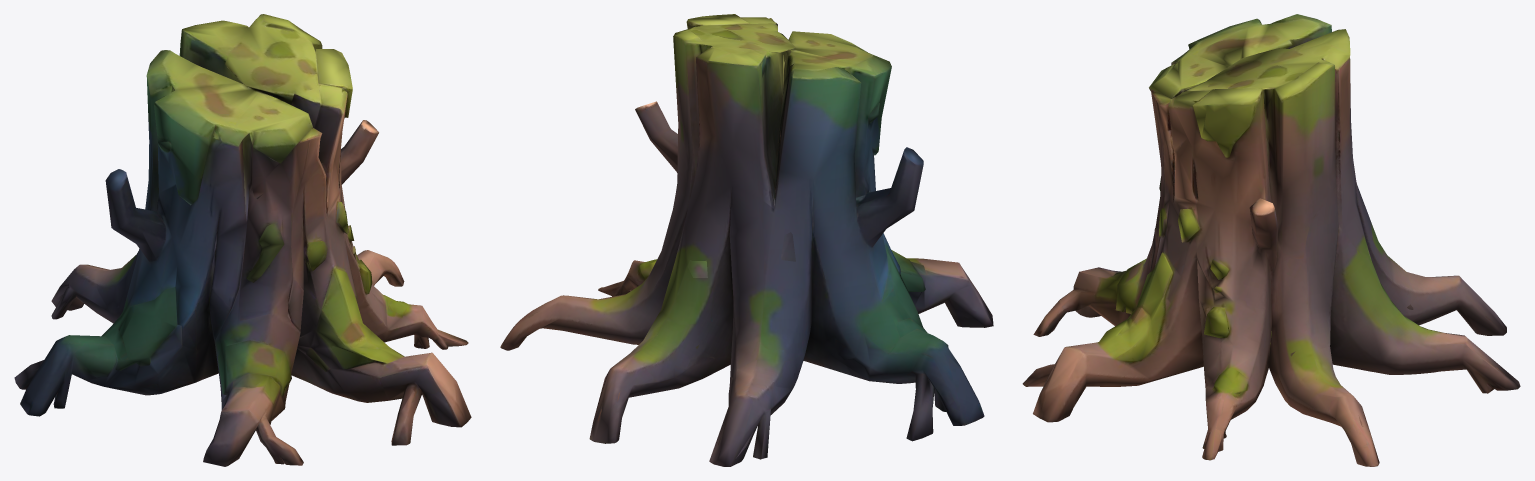
File: stump.opt.glb
The picture shows the model from 3 angles, left to right: view 1: azimuth 30°, elevation 25°; view 2: azimuth 150°, elevation 25°; view 3: azimuth 270°, elevation 25°; orthographic projection. The views are drawn at different scales.
Visible parts, largest first — view 1: node_0; view 2: node_0; view 3: node_0.
Part boxes in pixels (x1,y1,x2,y2): node_0: (14,14,471,466); node_0: (500,14,993,466); node_0: (1022,14,1520,466).
Bounding box in the file's own units: 0.9177 × 0.6656 × 0.9272.
Materials: 1 (1 with a texture image).
